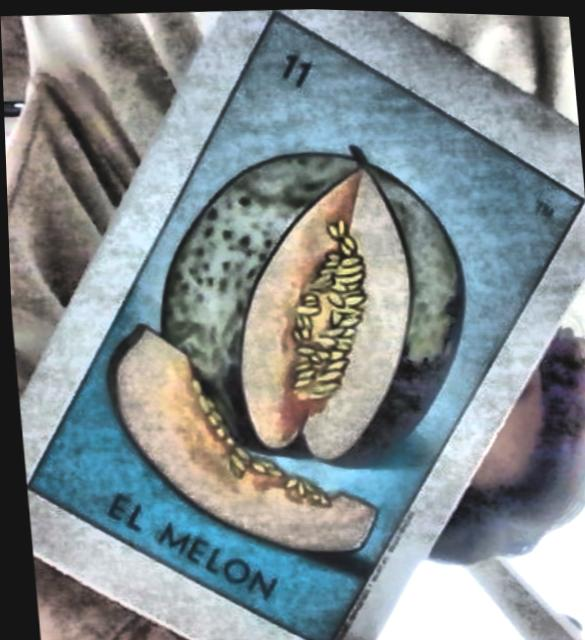El Melon: (24, 10, 582, 640)
